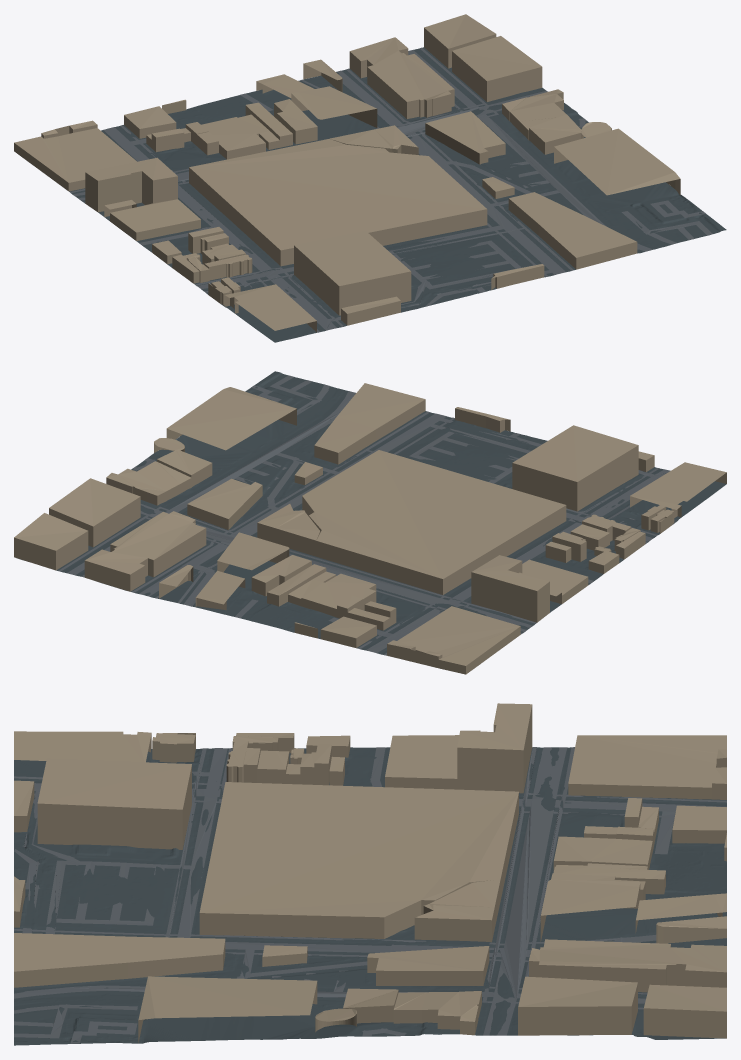
The model's file is epsg26910-1436-10885.lod0.glb.
The picture shows the model from 3 angles, top to bottom: view 1: azimuth 30°, elevation 25°; view 2: azimuth 150°, elevation 25°; view 3: azimuth 270°, elevation 25°; orthographic projection. The views are drawn at different scales.
Visible parts, largest first — view 1: epsg26910-1436-10885-lod0; view 2: epsg26910-1436-10885-lod0; view 3: epsg26910-1436-10885-lod0.
Part boxes in pixels (bbox=[...]): epsg26910-1436-10885-lod0: bbox=[14, 14, 726, 342]; epsg26910-1436-10885-lod0: bbox=[14, 371, 726, 674]; epsg26910-1436-10885-lod0: bbox=[14, 703, 726, 1045].
Bounding box in the file's own units: 384 × 28.04 × 384.
